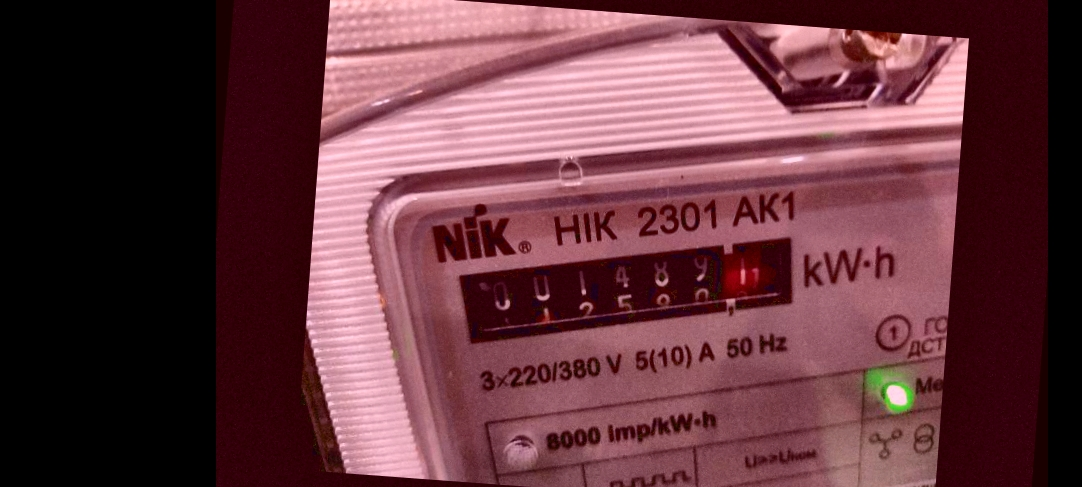0: (527, 266, 556, 304), (488, 277, 515, 314)
1: (732, 249, 754, 288), (572, 265, 594, 298)
4: (611, 258, 635, 291)
8: (651, 253, 674, 290)
9: (690, 250, 713, 283)
screen: (442, 202, 828, 380)
